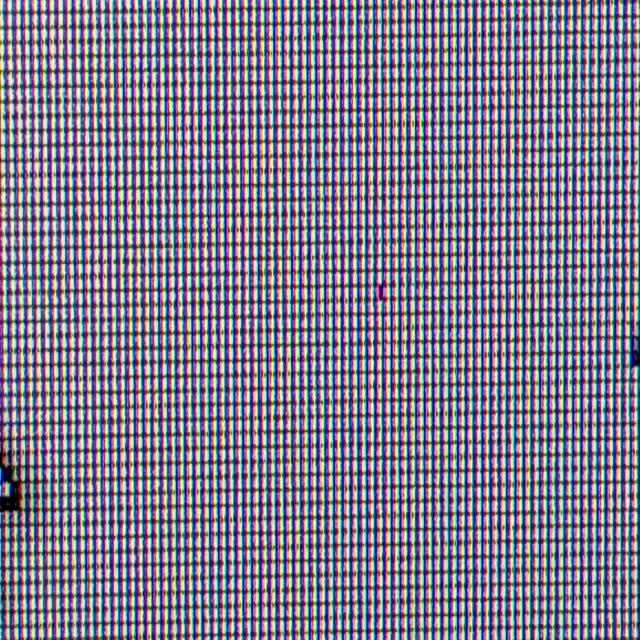Dead pixel: (0, 455, 21, 509), (632, 334, 640, 366), (378, 284, 384, 300)
